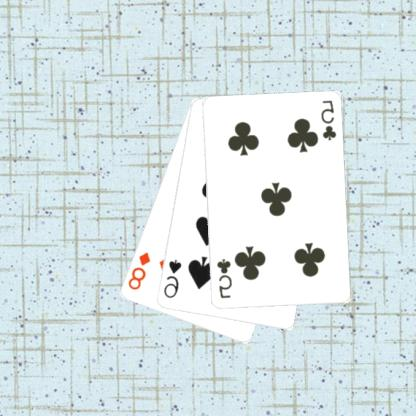5C: (320, 99, 339, 142), (216, 257, 234, 300)
8D: (127, 249, 154, 292)
9S: (162, 257, 184, 300)
